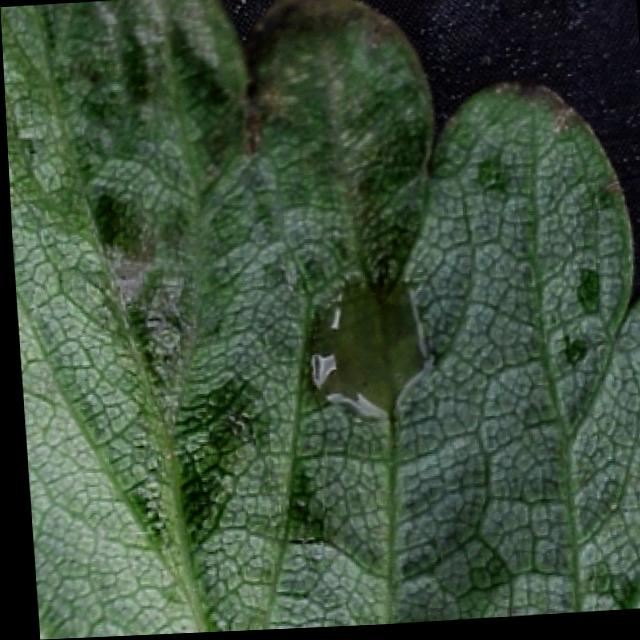Angular Leafspot: (0, 0, 640, 636)
